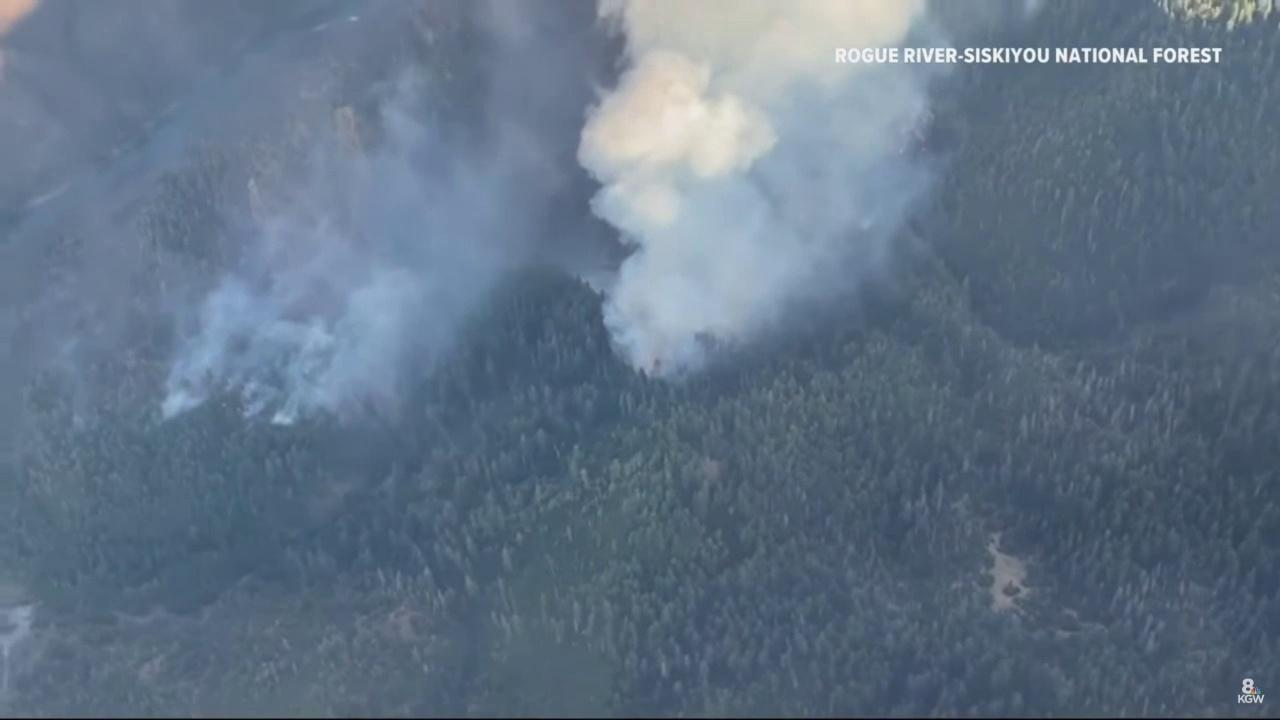smoke: (159, 0, 1046, 438)
